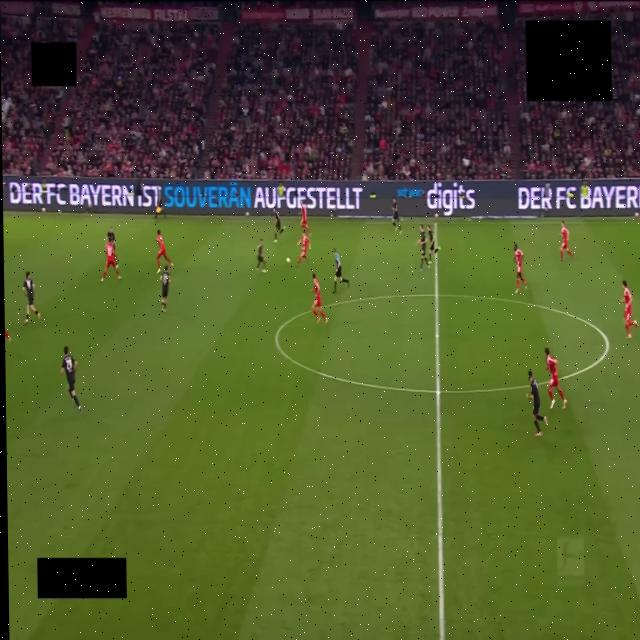ball: (287, 257, 290, 263)
player: (545, 347, 567, 408), (61, 346, 81, 412), (527, 371, 547, 436), (618, 280, 638, 338), (23, 272, 40, 324), (101, 240, 121, 282), (312, 272, 327, 323), (156, 230, 173, 273), (416, 224, 430, 271), (514, 244, 527, 294), (427, 224, 440, 262), (561, 221, 573, 262), (160, 265, 170, 312), (297, 231, 310, 265), (107, 227, 118, 266), (300, 201, 311, 236), (256, 239, 266, 273), (274, 208, 284, 242), (392, 198, 401, 233), (107, 227, 115, 247), (5, 331, 11, 341)
referee: (334, 248, 349, 292)
